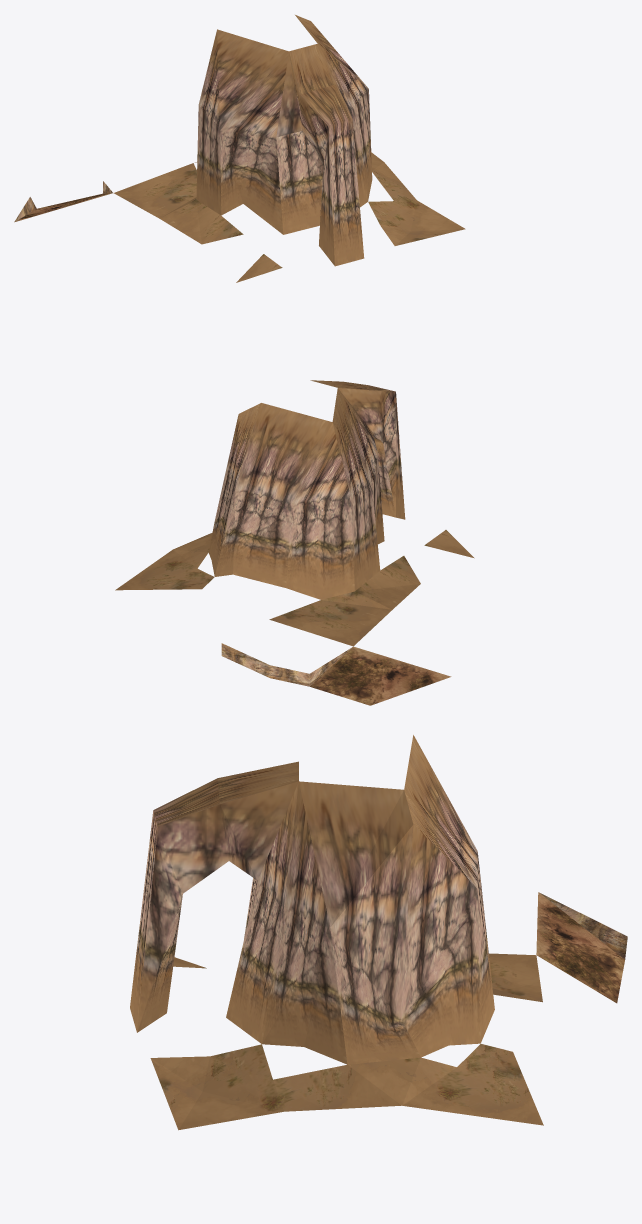
The picture shows the model from 3 angles, top to bottom: view 1: azimuth 30°, elevation 25°; view 2: azimuth 150°, elevation 25°; view 3: azimuth 270°, elevation 25°; orthographic projection. The views are drawn at different scales.
Visible parts, largest first — view 1: Object05; view 2: Object05; view 3: Object05.
Boxes of the visible parts, bbox=[...] form: Object05: bbox=[14, 15, 465, 282]; Object05: bbox=[115, 380, 474, 705]; Object05: bbox=[130, 735, 627, 1130].
Bounding box in the file's own units: 9196 × 4114 × 7513.
6 materials, 6 textured.
